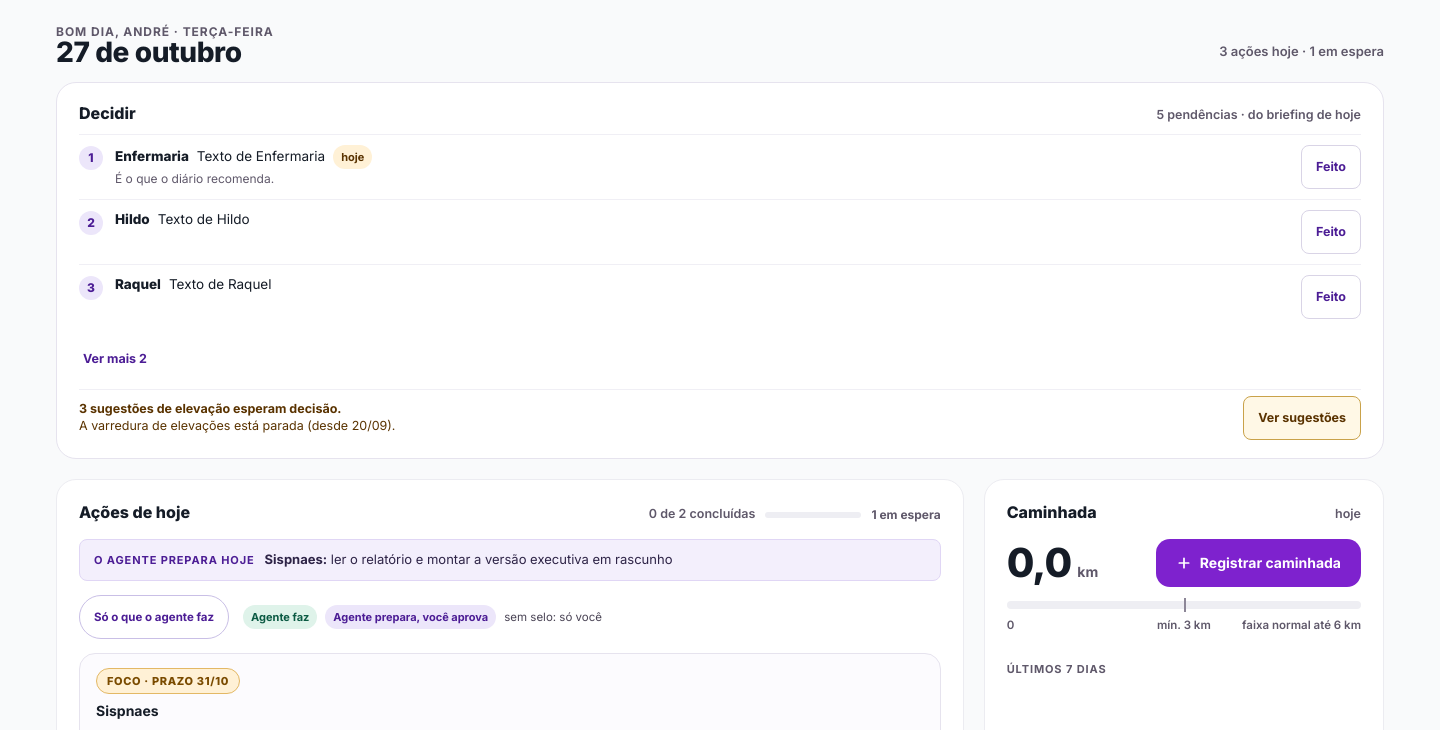
Test: Painel do dia — sugestões de elevação › decidida, a sugestão sai e a contagem acompanha sem recarregar
The width and height of the screenshot is (1440, 730).
Click the button "Ver sugestões". click: (1302, 418)
box: [1243, 396, 1361, 440]
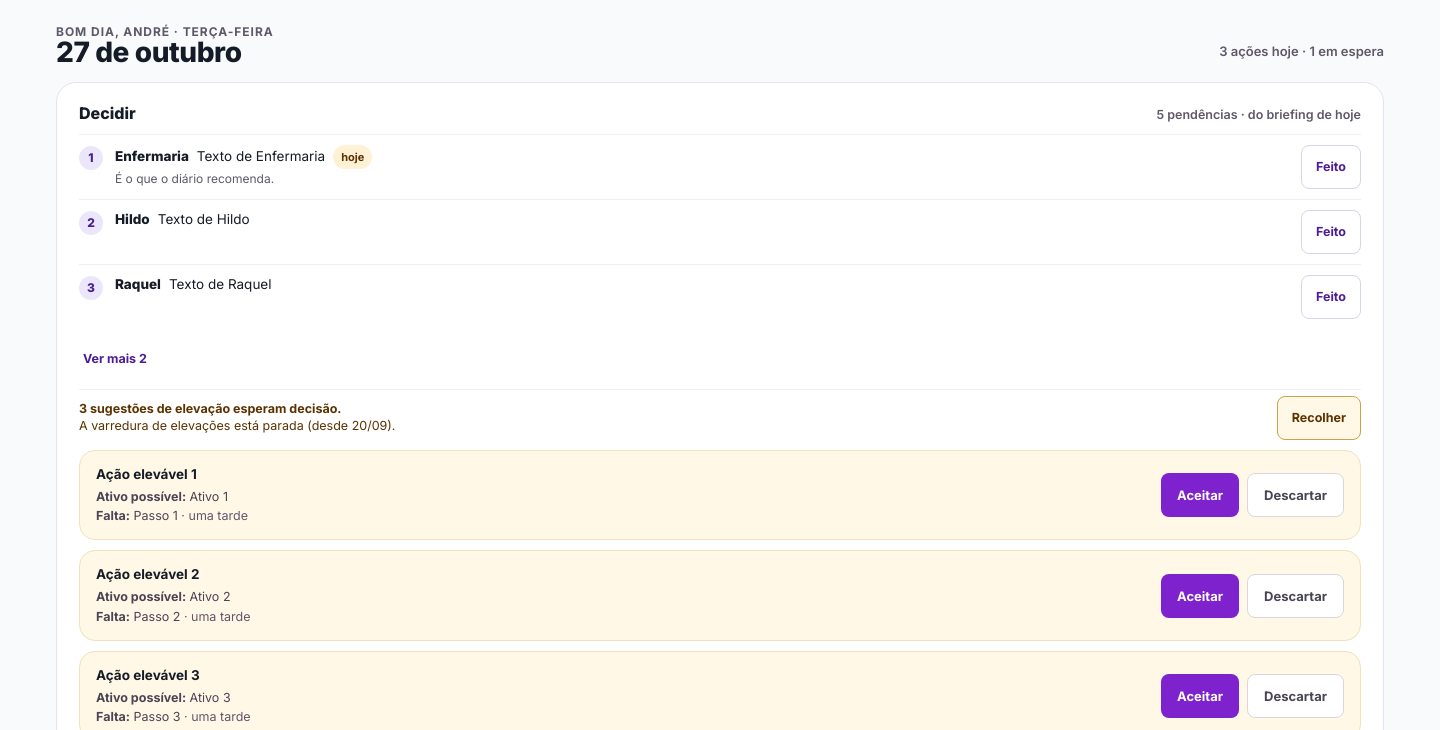
Click the button with aria-label "Descartar: Ação elevável 1". click: (1296, 495)
box: [1247, 473, 1344, 517]
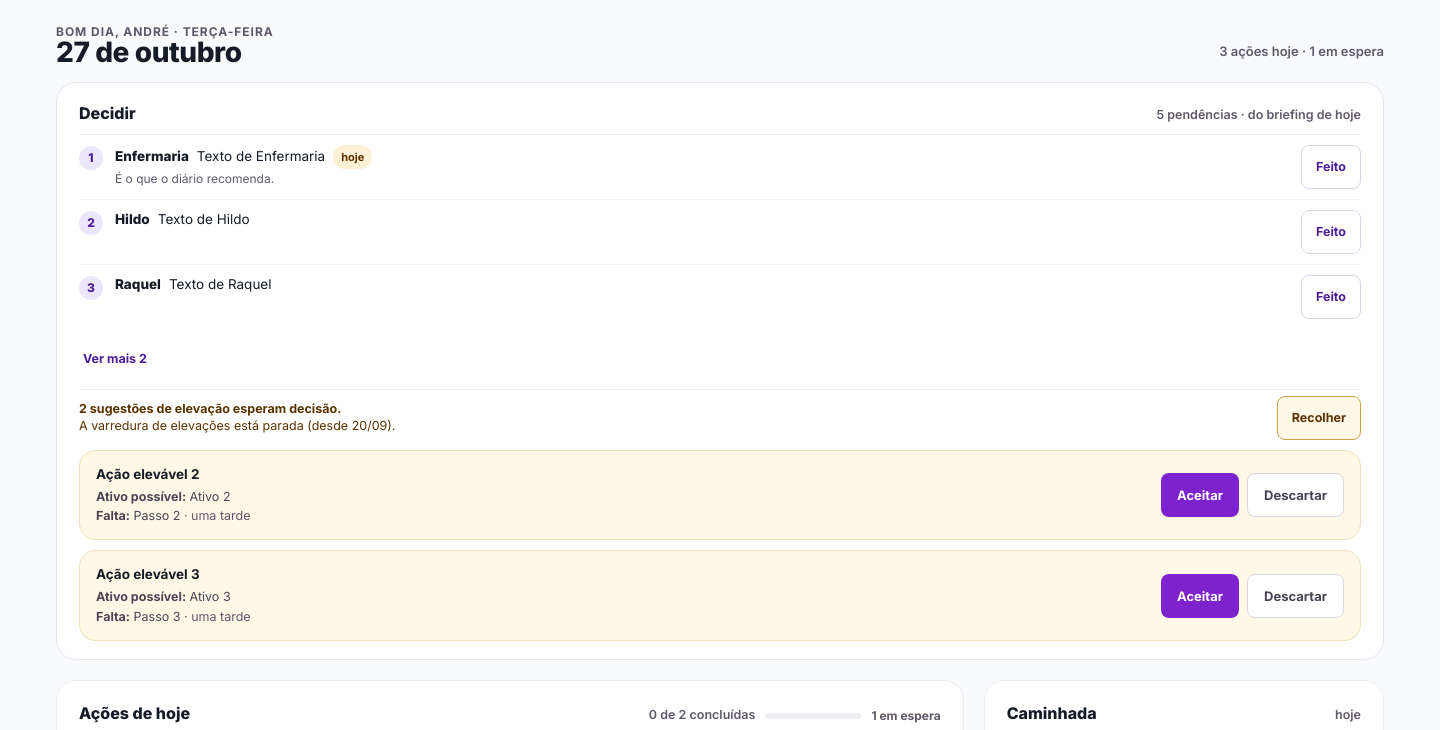
Expected: the number of elements with test id "card-elevacao" is 2, [79, 450, 1361, 540]; [79, 550, 1361, 641]
Expected: the text "2 sugestões de elevação esperam decisão." is shown, [79, 402, 341, 417]
